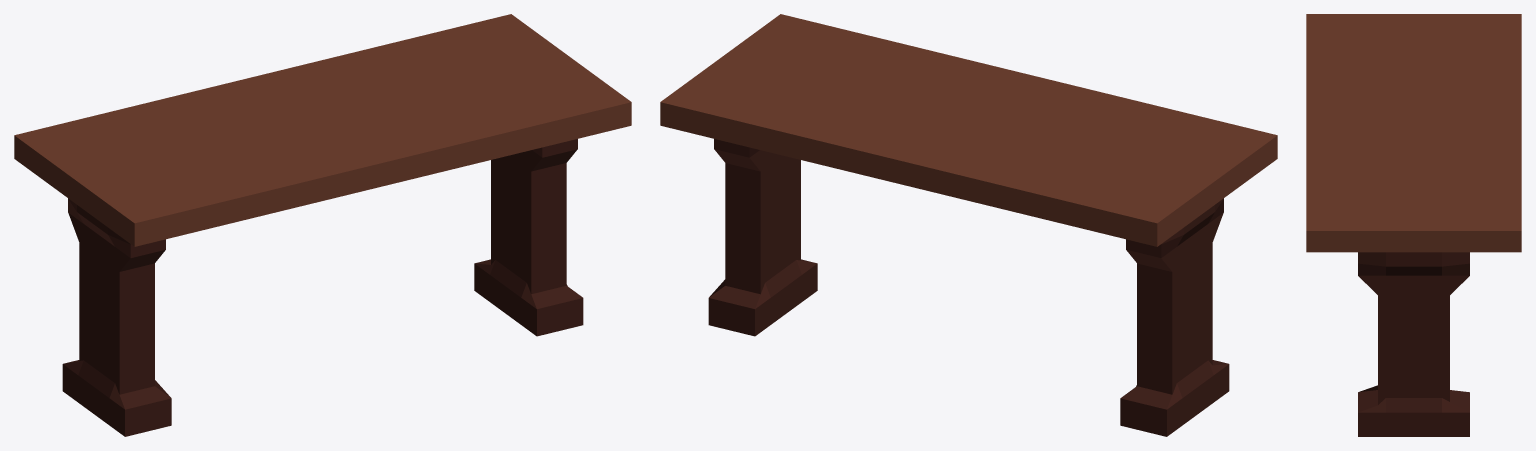
Rendered from Table.fbx.
3 renders of one model, left to right at view 1: azimuth 30°, elevation 25°; view 2: azimuth 150°, elevation 25°; view 3: azimuth 270°, elevation 25°, orthographic. The views are drawn at different scales.
Visible parts, largest first — view 1: Cube, Cube.001; view 2: Cube, Cube.001; view 3: Cube, Cube.001.
Part boxes in pixels (<box>): Cube: <box>14,14,631,246</box>; Cube.001: <box>62,139,583,436</box>; Cube: <box>660,14,1277,246</box>; Cube.001: <box>708,139,1229,436</box>; Cube: <box>1306,14,1521,252</box>; Cube.001: <box>1358,252,1469,436</box>.
Bounding box in the file's own units: 477 × 219 × 200.
